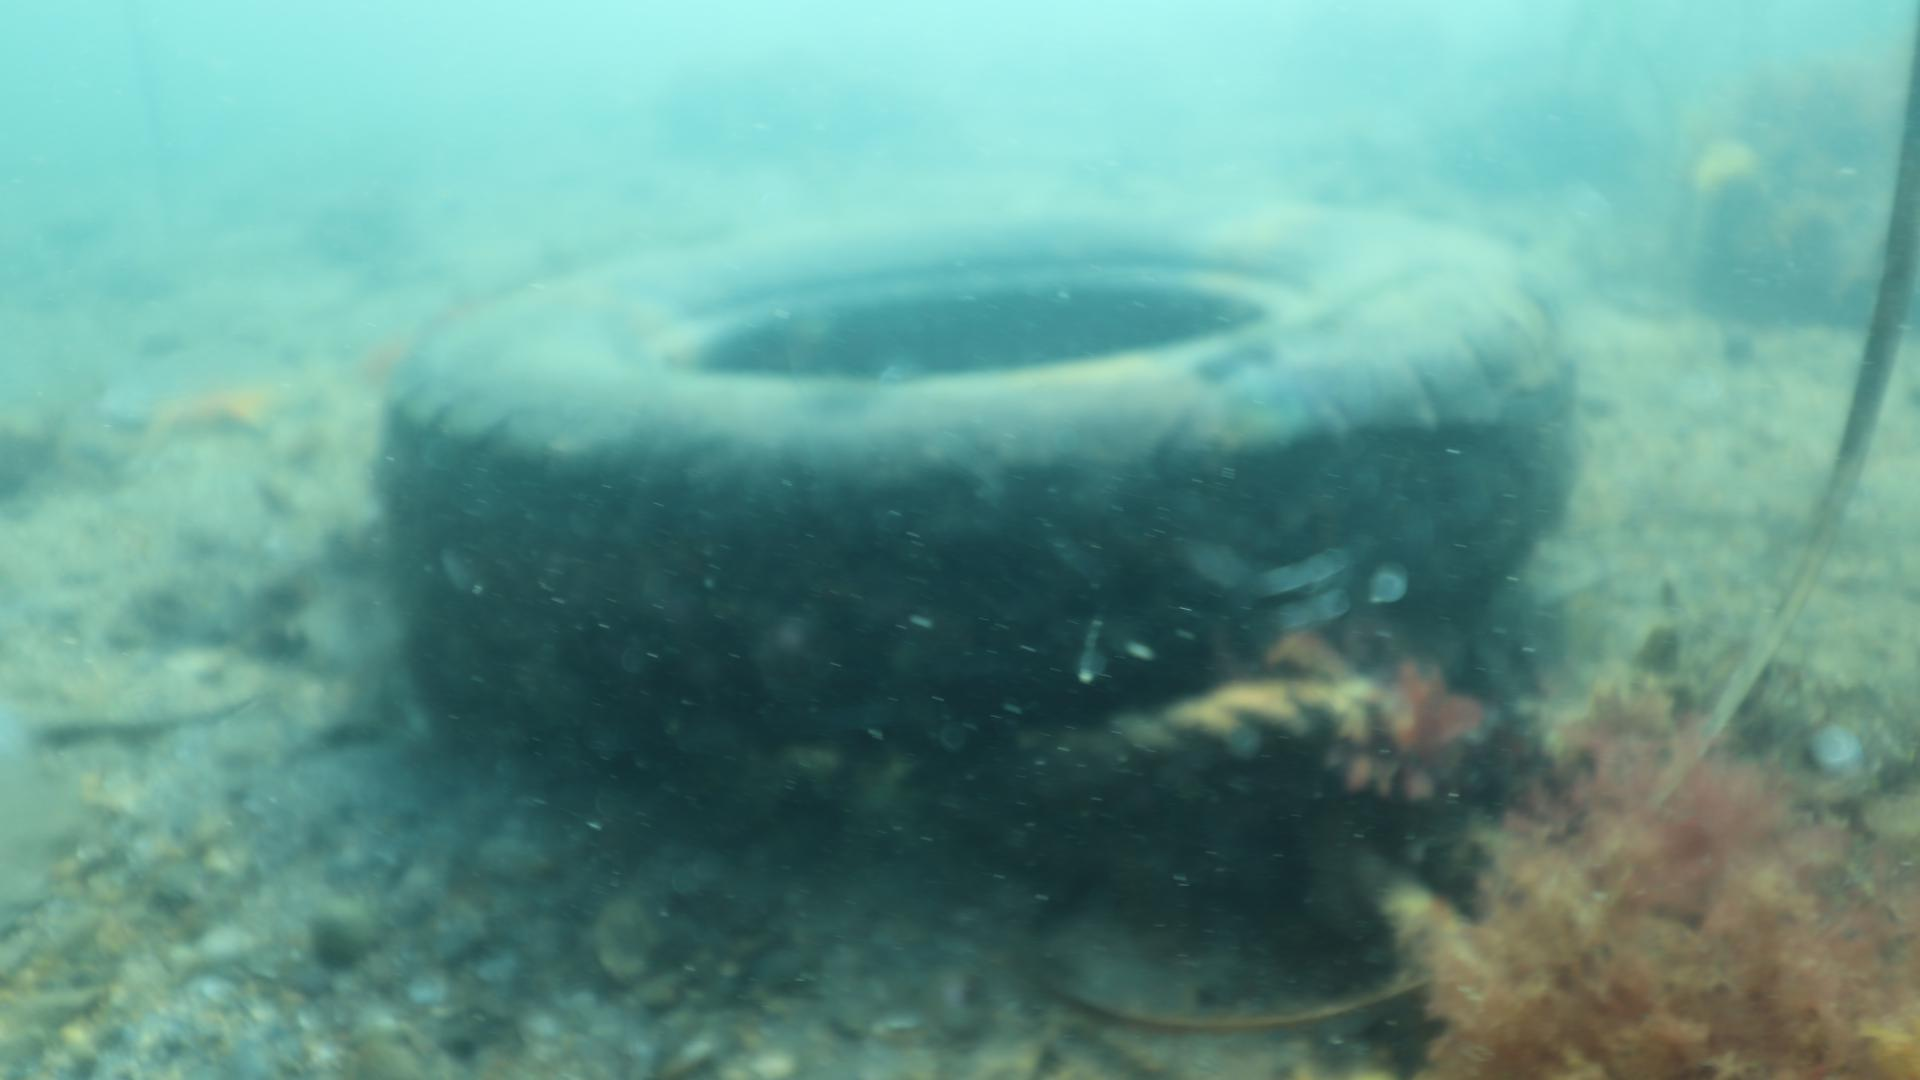rope: (1044, 675, 1393, 771)
tire: (377, 219, 1578, 833)
